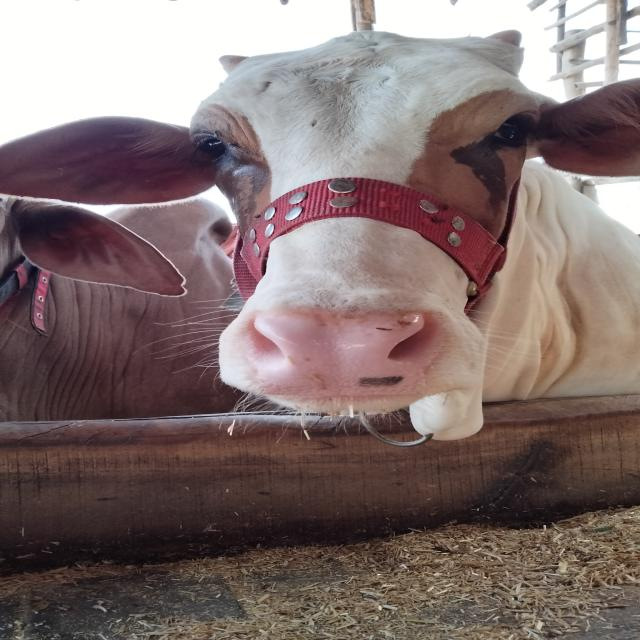muzzles: (231, 297, 469, 396)
